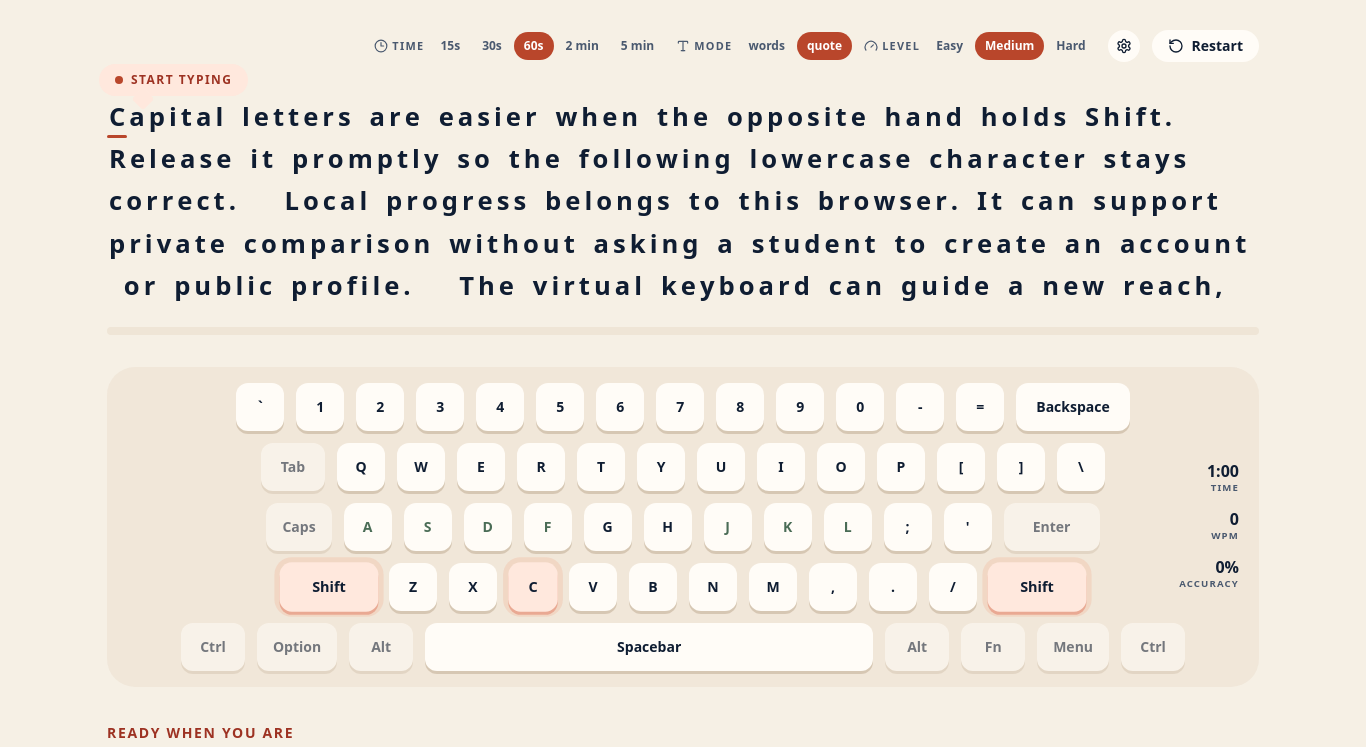
Test: TypingTest input integration › explains quote-owned punctuation and hides inapplicable toggles
Click the button named "Open typing settings": (1124,46) left=1108, top=30, right=1140, bottom=62
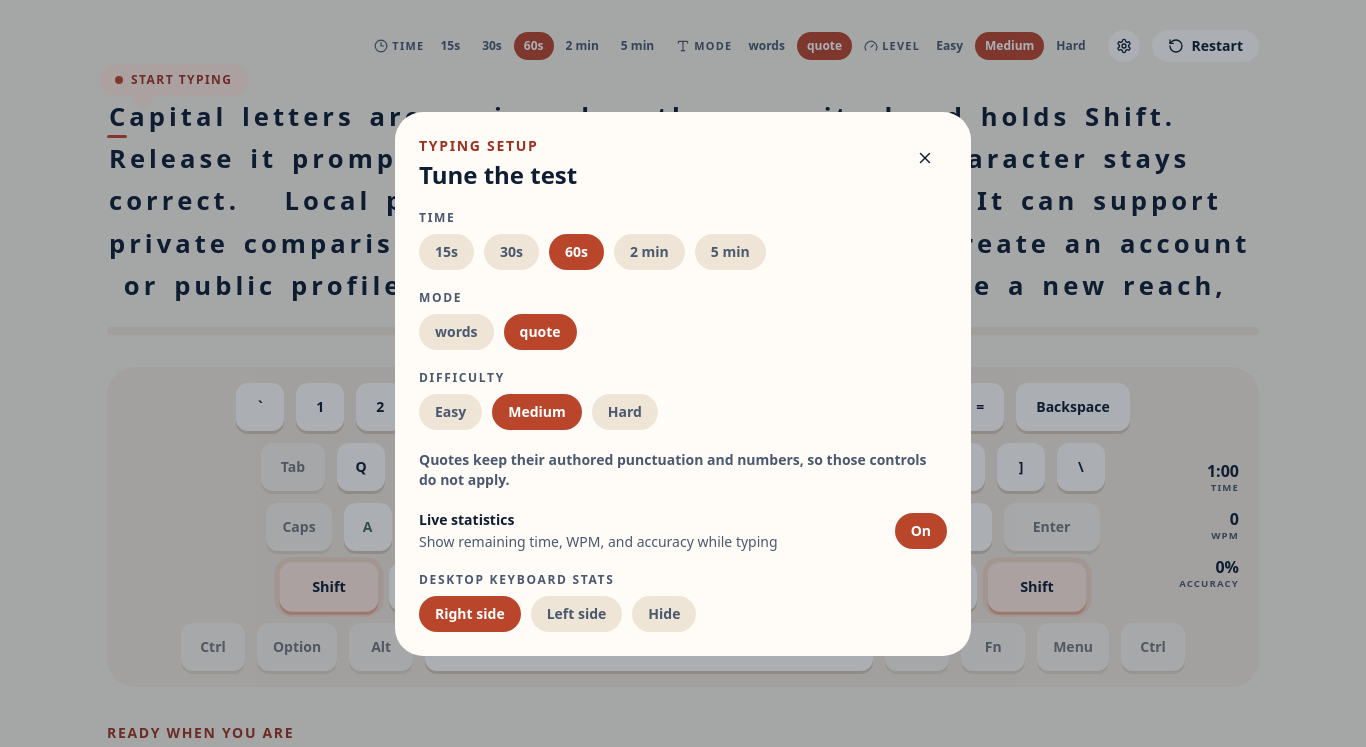
Now the text "Quotes keep their authored punctuation and numbers" is shown, box left=419, top=450, right=926, bottom=489
